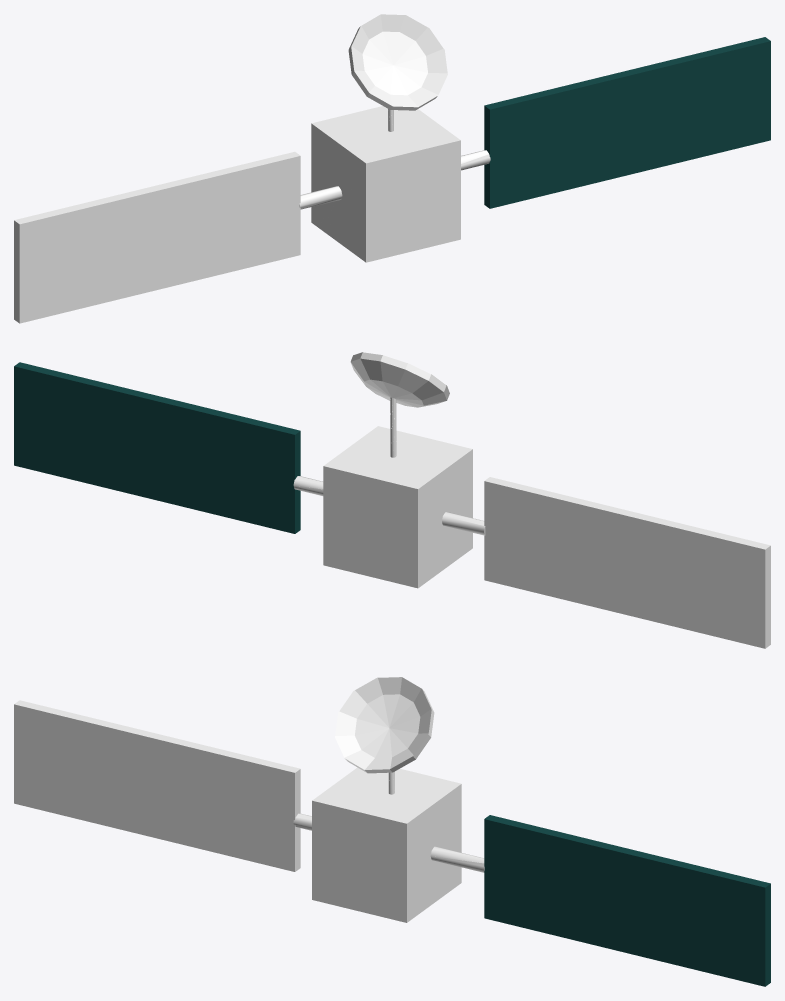
Rendered from satellite_a.gltf.
3 views of the same model, one above another, from view 1: azimuth 30°, elevation 25°; view 2: azimuth 150°, elevation 25°; view 3: azimuth 330°, elevation 25° (orthographic).
Parts seen in each view (by area): view 1: CSGCombiner3D2; view 2: CSGCombiner3D2; view 3: CSGCombiner3D2.
Part boxes in pixels (x1,y1,x2,y2): CSGCombiner3D2: [14, 14, 770, 323]; CSGCombiner3D2: [14, 352, 770, 648]; CSGCombiner3D2: [14, 677, 770, 986].
Bounding box in the file's own units: 7.92 × 2.1 × 1.
